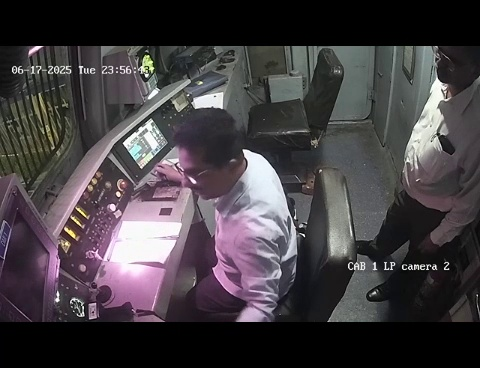horn_inactive: (87, 272, 124, 310)
